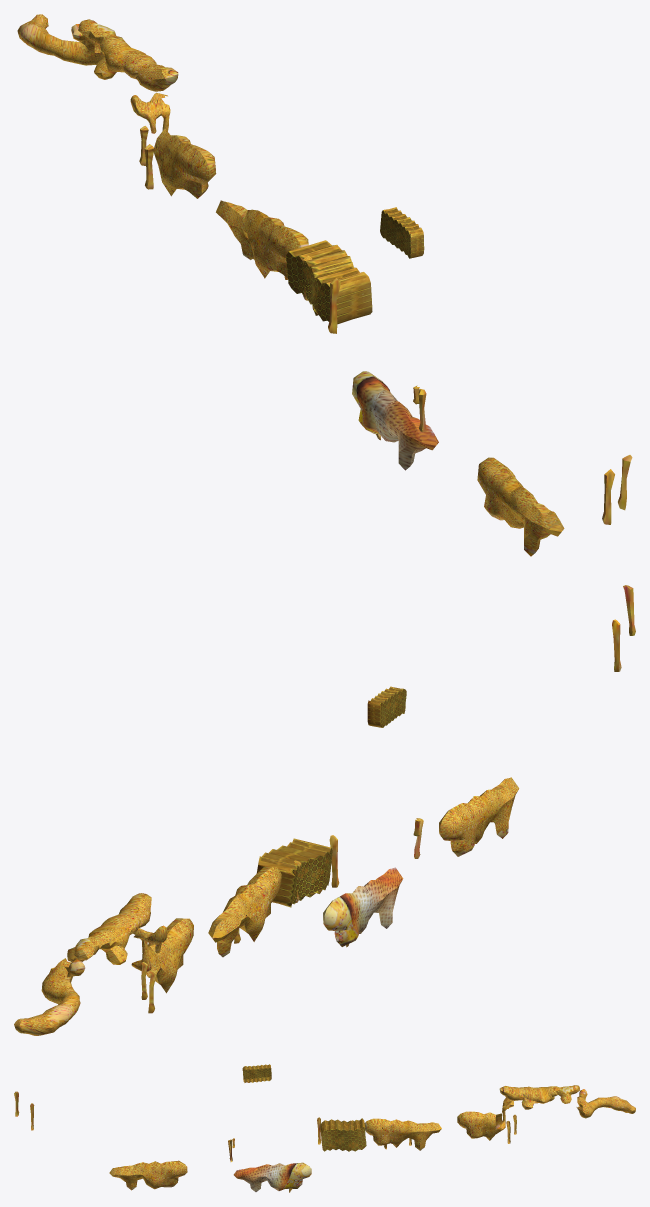
The model's file is Honey_Skin_1.fbx.
3 views of the same model, one above another, from view 1: azimuth 30°, elevation 25°; view 2: azimuth 150°, elevation 25°; view 3: azimuth 270°, elevation 25° (orthographic). The views are drawn at different scales.
Parts seen in each view (by area): view 1: Honey_Skin; view 2: Honey_Skin; view 3: Honey_Skin.
Part boxes in pixels (x1,y1,x2,y2): Honey_Skin: (17,14,632,556); Honey_Skin: (14,585,635,1035); Honey_Skin: (14,1064,635,1192).
Size of the model in its own units: 2.18 by 8.28 by 36.97.
Materials: 1 (1 with a texture image).
